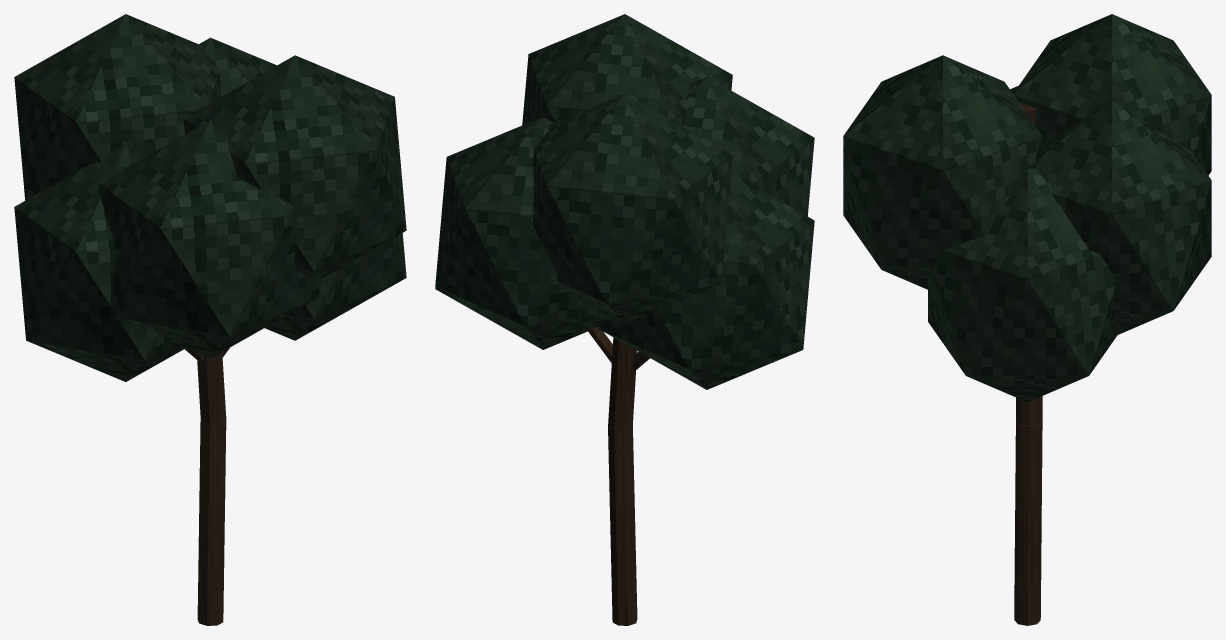
The model's file is level_tree_broadleaf_worn.glb.
3 views of the same model, side by side, from view 1: azimuth 30°, elevation 25°; view 2: azimuth 150°, elevation 25°; view 3: azimuth 270°, elevation 25° (orthographic). The views are drawn at different scales.
Visible parts, largest first — view 1: level_tree_broadleaf_worn; view 2: level_tree_broadleaf_worn; view 3: level_tree_broadleaf_worn.
Part boxes in pixels (x1,y1,x2,y2): level_tree_broadleaf_worn: (14,14,406,625); level_tree_broadleaf_worn: (435,14,814,625); level_tree_broadleaf_worn: (843,14,1211,625).
Size of the model in its own units: 4.79 by 7.28 by 4.15.
2 materials, 2 textured.
